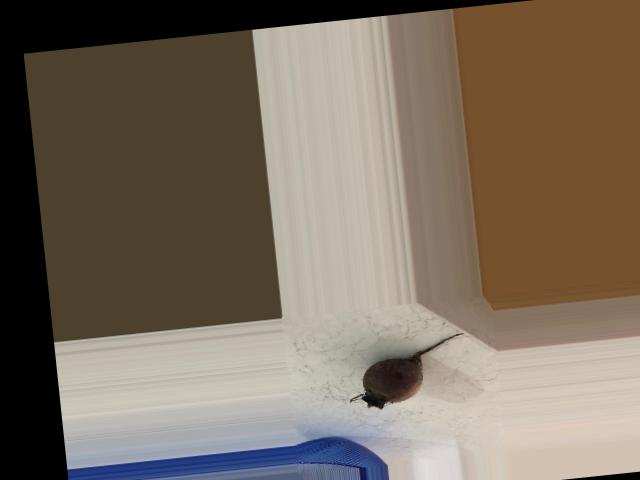beet: (344, 332, 470, 411)
